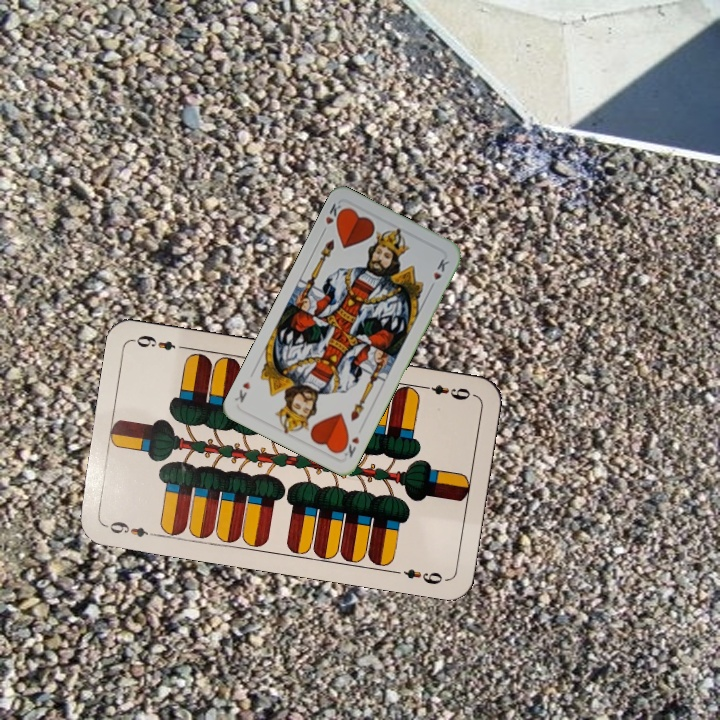E9: (417, 380, 476, 403), (102, 517, 160, 540)
HK: (318, 199, 347, 237), (340, 432, 362, 460)
